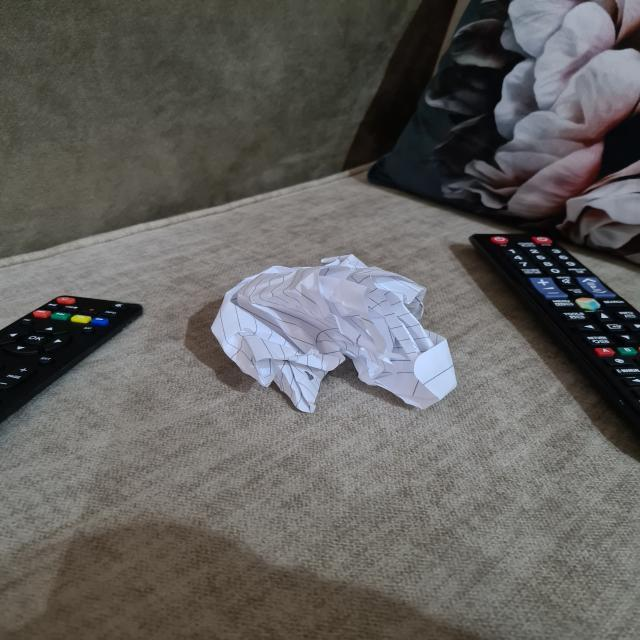Paper: (208, 260, 451, 410)
